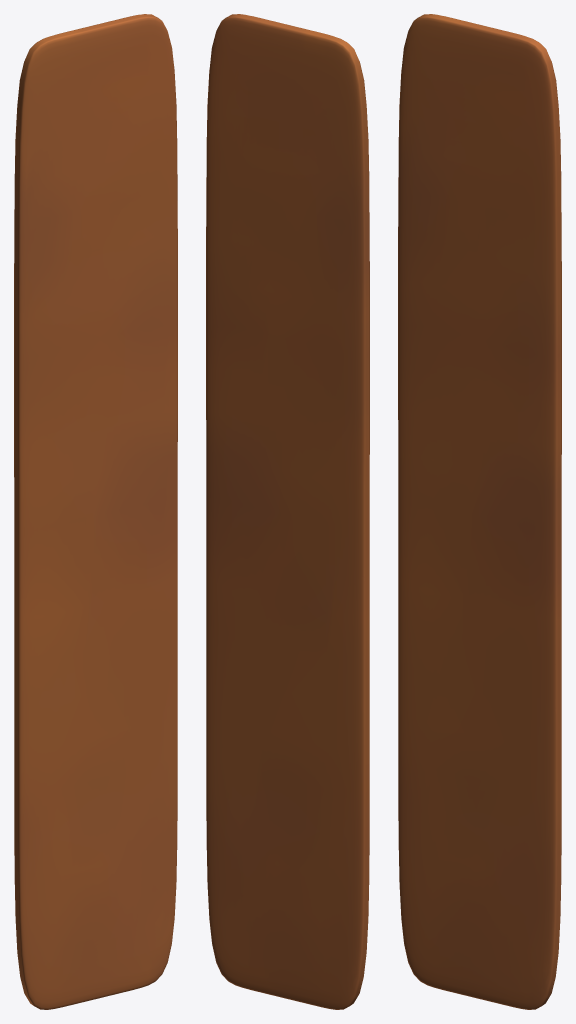
The model's file is copper-strip.glb.
3 views of the same model, side by side, from view 1: azimuth 30°, elevation 25°; view 2: azimuth 150°, elevation 25°; view 3: azimuth 330°, elevation 25° (orthographic).
Visible parts, largest first — view 1: copper-strip-strip; view 2: copper-strip-strip; view 3: copper-strip-strip.
Boxes of the visible parts, left/top/right/bottom form: copper-strip-strip: left=14, top=14, right=177, bottom=1009; copper-strip-strip: left=206, top=14, right=369, bottom=1009; copper-strip-strip: left=398, top=14, right=561, bottom=1009.
Size of what is drawn, in the model's own units: 1.2 by 7 by 0.1016.
